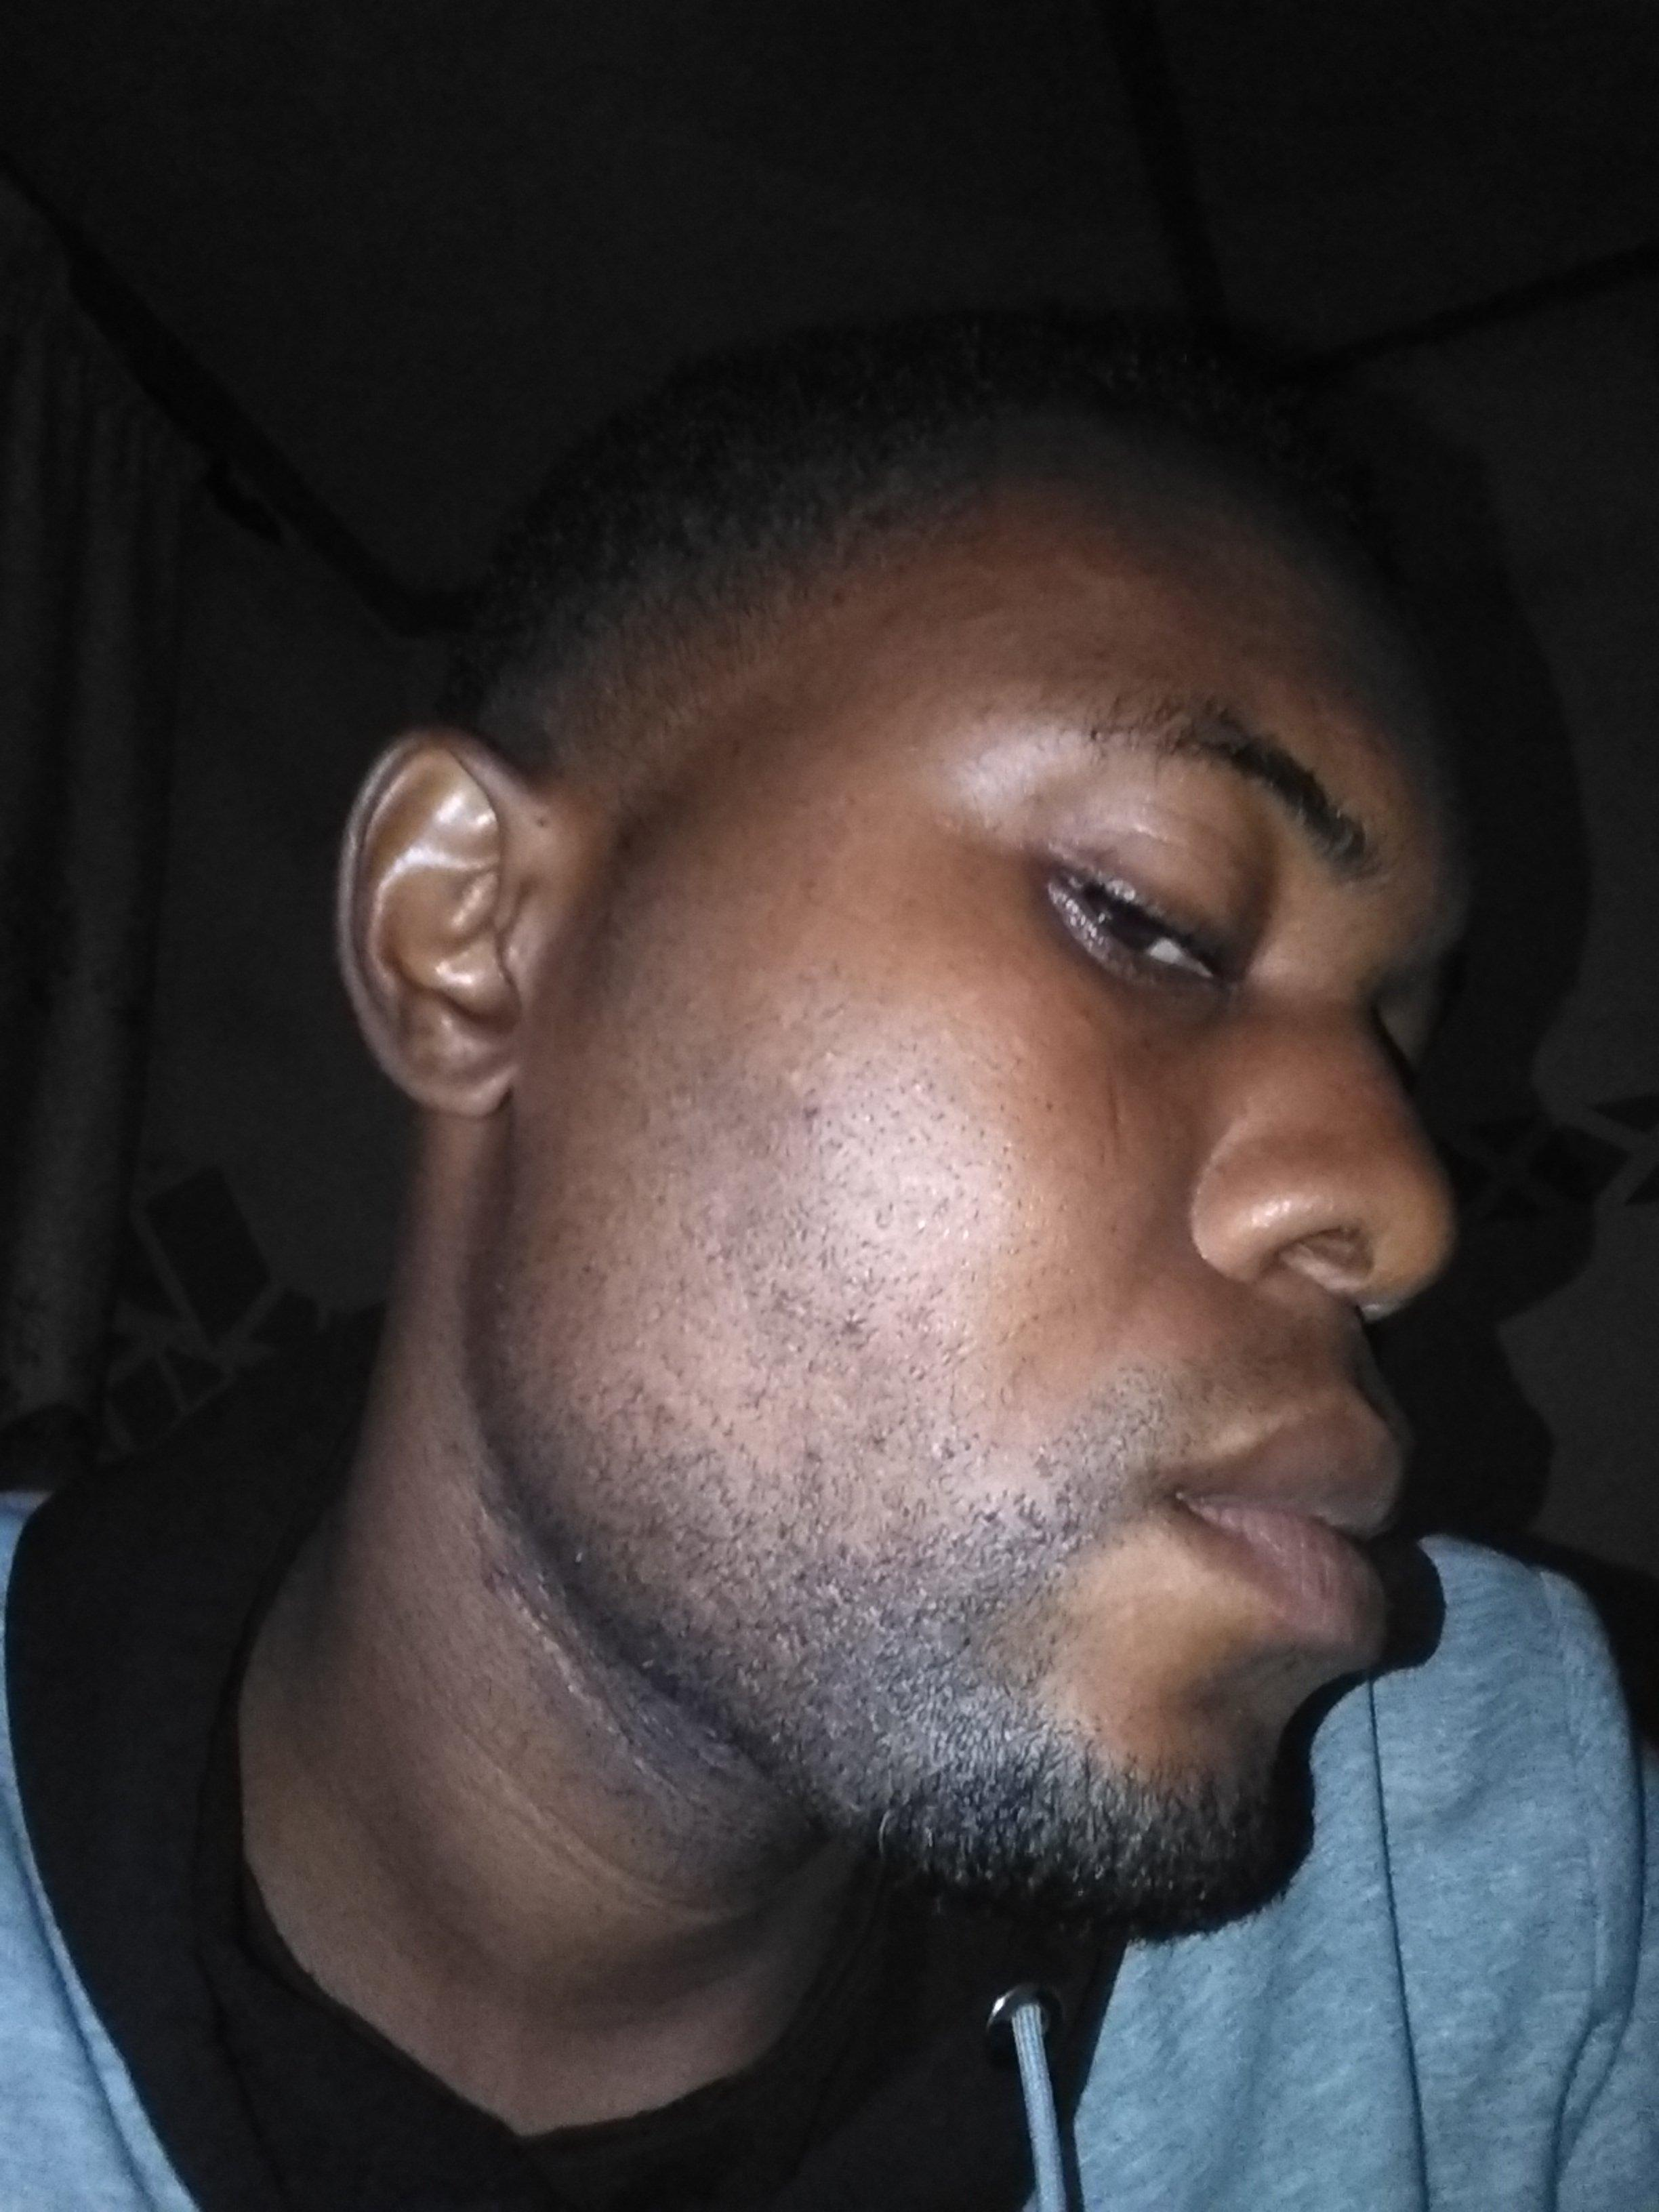Englarged-Pores: (960, 1057, 1138, 1303)
